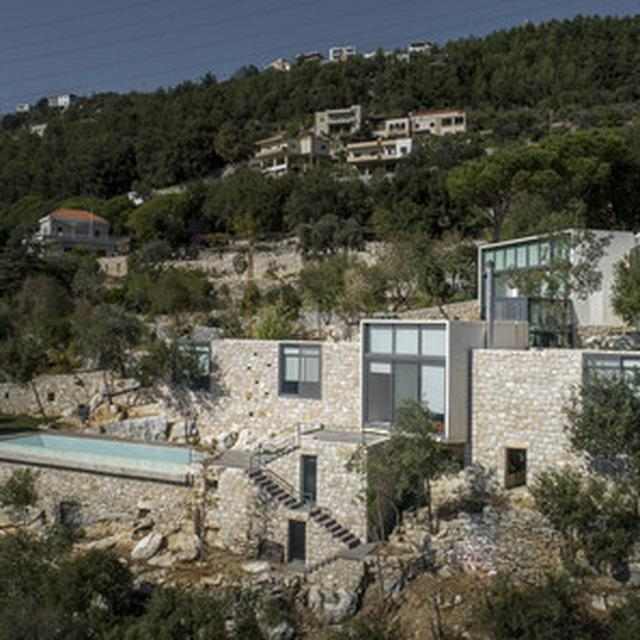building: (221, 221, 640, 557), (311, 97, 462, 176), (28, 201, 125, 286), (235, 120, 333, 188)
